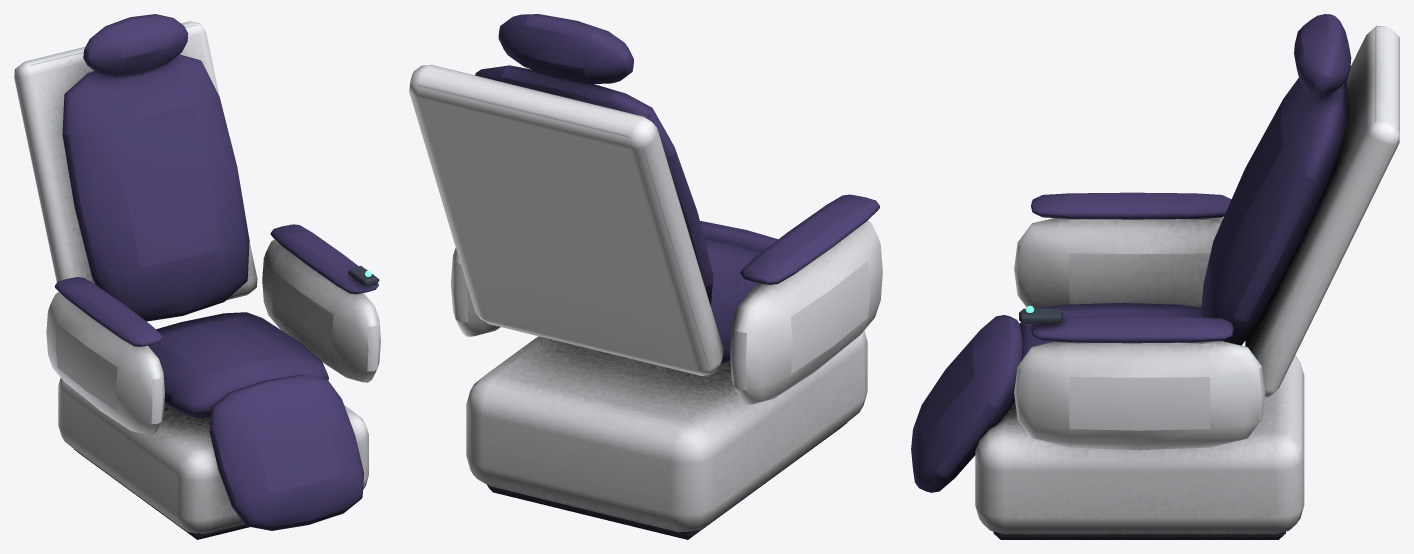
Rendered from massage_chair.glb.
3 renders of one model, left to right at view 1: azimuth 30°, elevation 25°; view 2: azimuth 150°, elevation 25°; view 3: azimuth 270°, elevation 25°, orthographic. The views are drawn at different scales.
Visible parts, largest first — view 1: massage_chair; view 2: massage_chair; view 3: massage_chair.
Part boxes in pixels (x1,y1,x2,y2): massage_chair: [14, 14, 380, 539]; massage_chair: [409, 14, 882, 539]; massage_chair: [911, 14, 1399, 539].
Size of the model in its own units: 0.967 by 1.42 by 1.34.
Materials: 4 (3 with a texture image).
